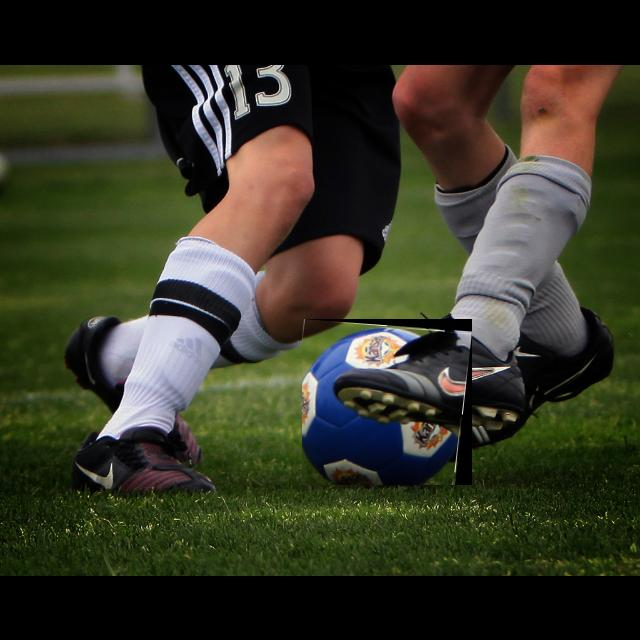Football: (302, 319, 472, 485)
